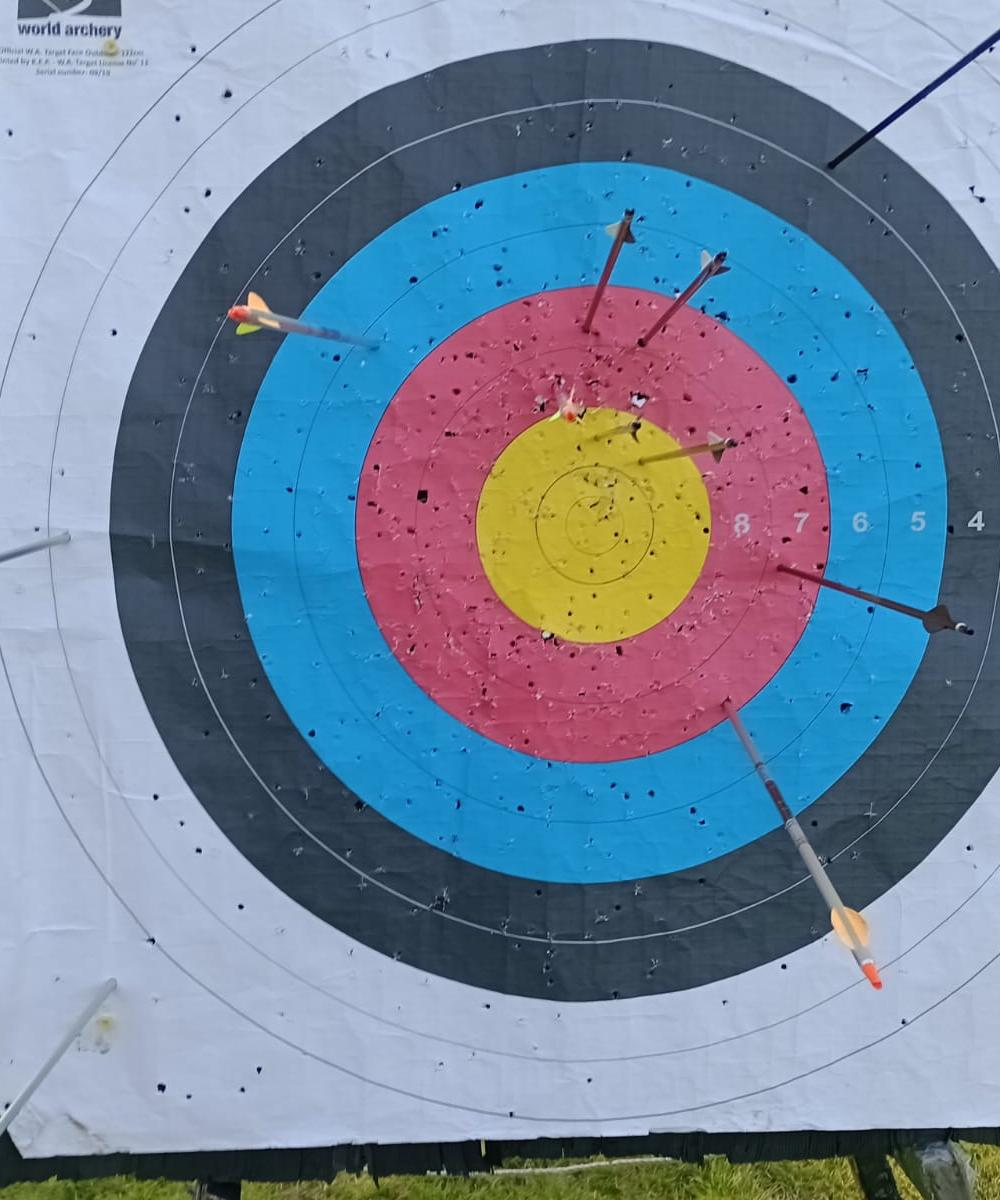10-Ring: (531, 465, 657, 588)
2-Ring: (48, 0, 1000, 1062)
3-Ring: (108, 36, 1000, 1005)
4-Ring: (171, 100, 1000, 943)
5-Ring: (234, 163, 946, 884)
6-Ring: (294, 227, 889, 824)
7-Ring: (356, 282, 829, 763)
8-Ring: (368, 300, 816, 751)
9-Ring: (428, 360, 760, 691)
Arrow: (717, 694, 897, 996), (0, 978, 117, 1137), (770, 564, 979, 644), (223, 288, 381, 373), (623, 240, 738, 345), (559, 201, 650, 331), (639, 432, 746, 463), (593, 411, 655, 460), (0, 534, 69, 563)
